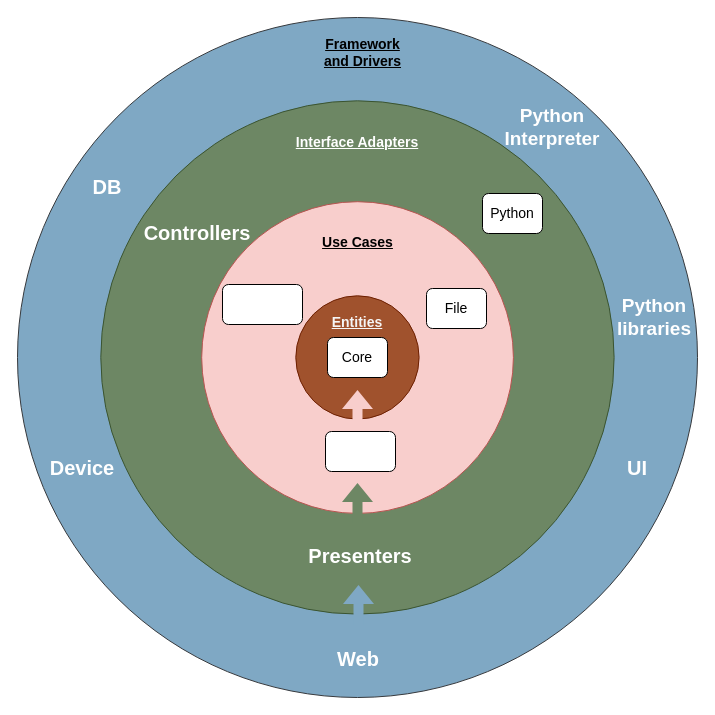
Image size: 715x715. Some labels were removed from this diagram. Each missing label, with the centre of its shape:
Network: (360,451)
Processing: (262,304)
